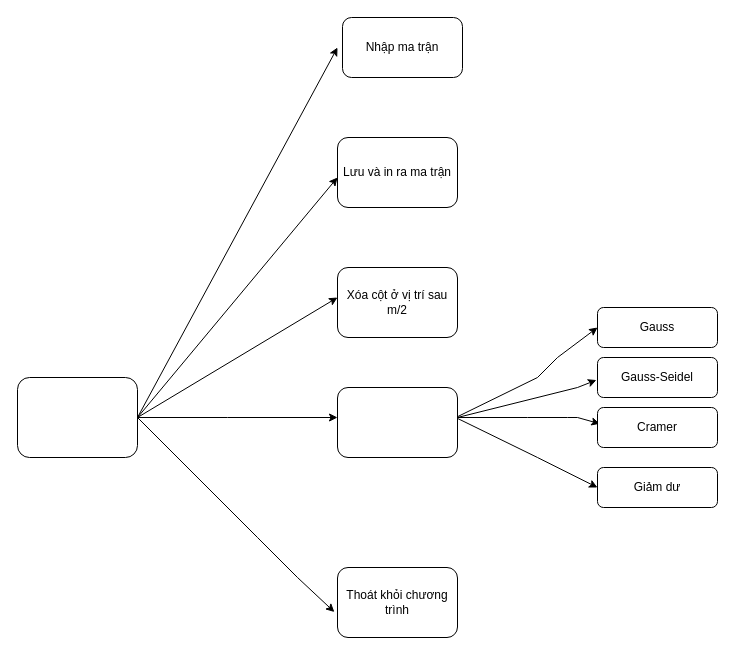
This 735x655 diagram has some shape labels left out. Each missing label, with the box of its shape:
Giải hệ phương trình tuyến tính: (336, 386, 458, 458)
Main: (16, 376, 138, 458)
